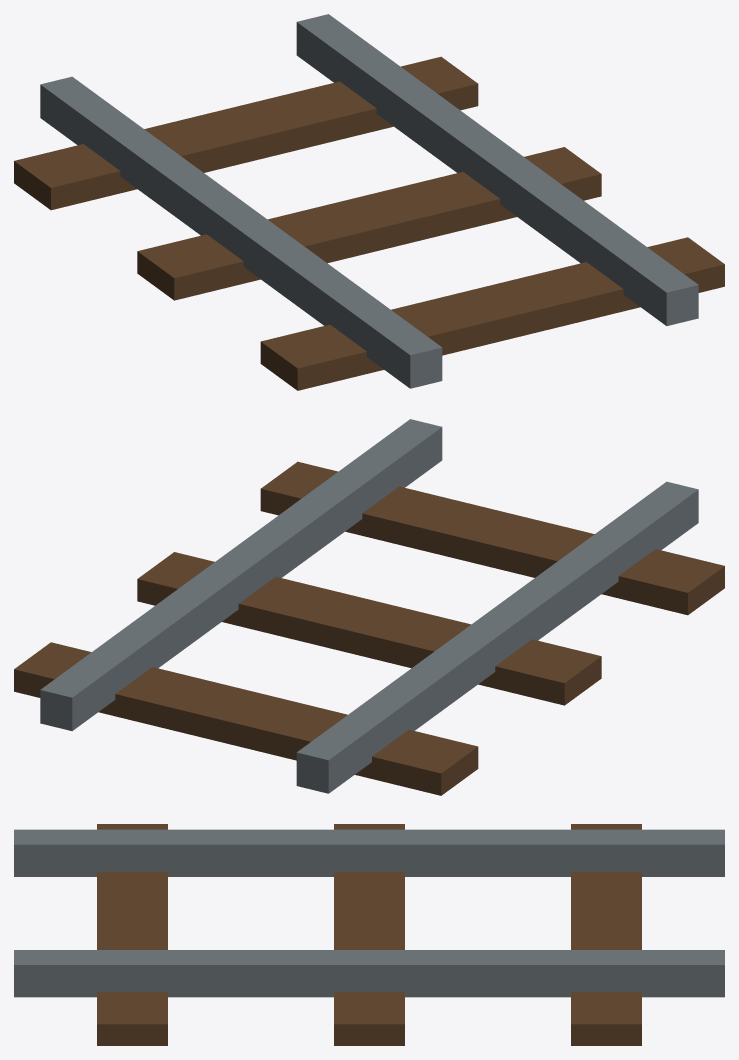
The model's file is railroad.glb.
The picture shows the model from 3 angles, top to bottom: view 1: azimuth 30°, elevation 25°; view 2: azimuth 150°, elevation 25°; view 3: azimuth 270°, elevation 25°; orthographic projection. The views are drawn at different scales.
Parts seen in each view (by area): view 1: iron, iron2, wood3, wood, wood2; view 2: iron, iron2, wood2, wood, wood3; view 3: iron, iron2, wood, wood2, wood3.
Boxes of the visible parts, bbox=[...] form: iron: bbox=[40, 76, 442, 388]; iron2: bbox=[296, 14, 698, 325]; wood3: bbox=[260, 237, 724, 390]; wood: bbox=[137, 147, 601, 300]; wood2: bbox=[14, 56, 478, 210]; iron: bbox=[296, 481, 698, 793]; iron2: bbox=[40, 419, 442, 730]; wood2: bbox=[14, 642, 478, 795]; wood: bbox=[137, 552, 601, 705]; wood3: bbox=[260, 461, 724, 615]; iron: bbox=[14, 829, 724, 876]; iron2: bbox=[14, 950, 724, 997]; wood: bbox=[334, 824, 404, 1045]; wood2: bbox=[571, 824, 641, 1045]; wood3: bbox=[97, 824, 167, 1045].
Size of the model in its own units: 20 by 2.25 by 30.
